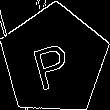P_N: (30, 31, 79, 90)
